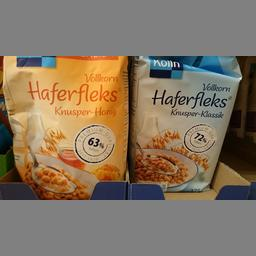cereal: (0, 55, 127, 198), (130, 54, 242, 191)
